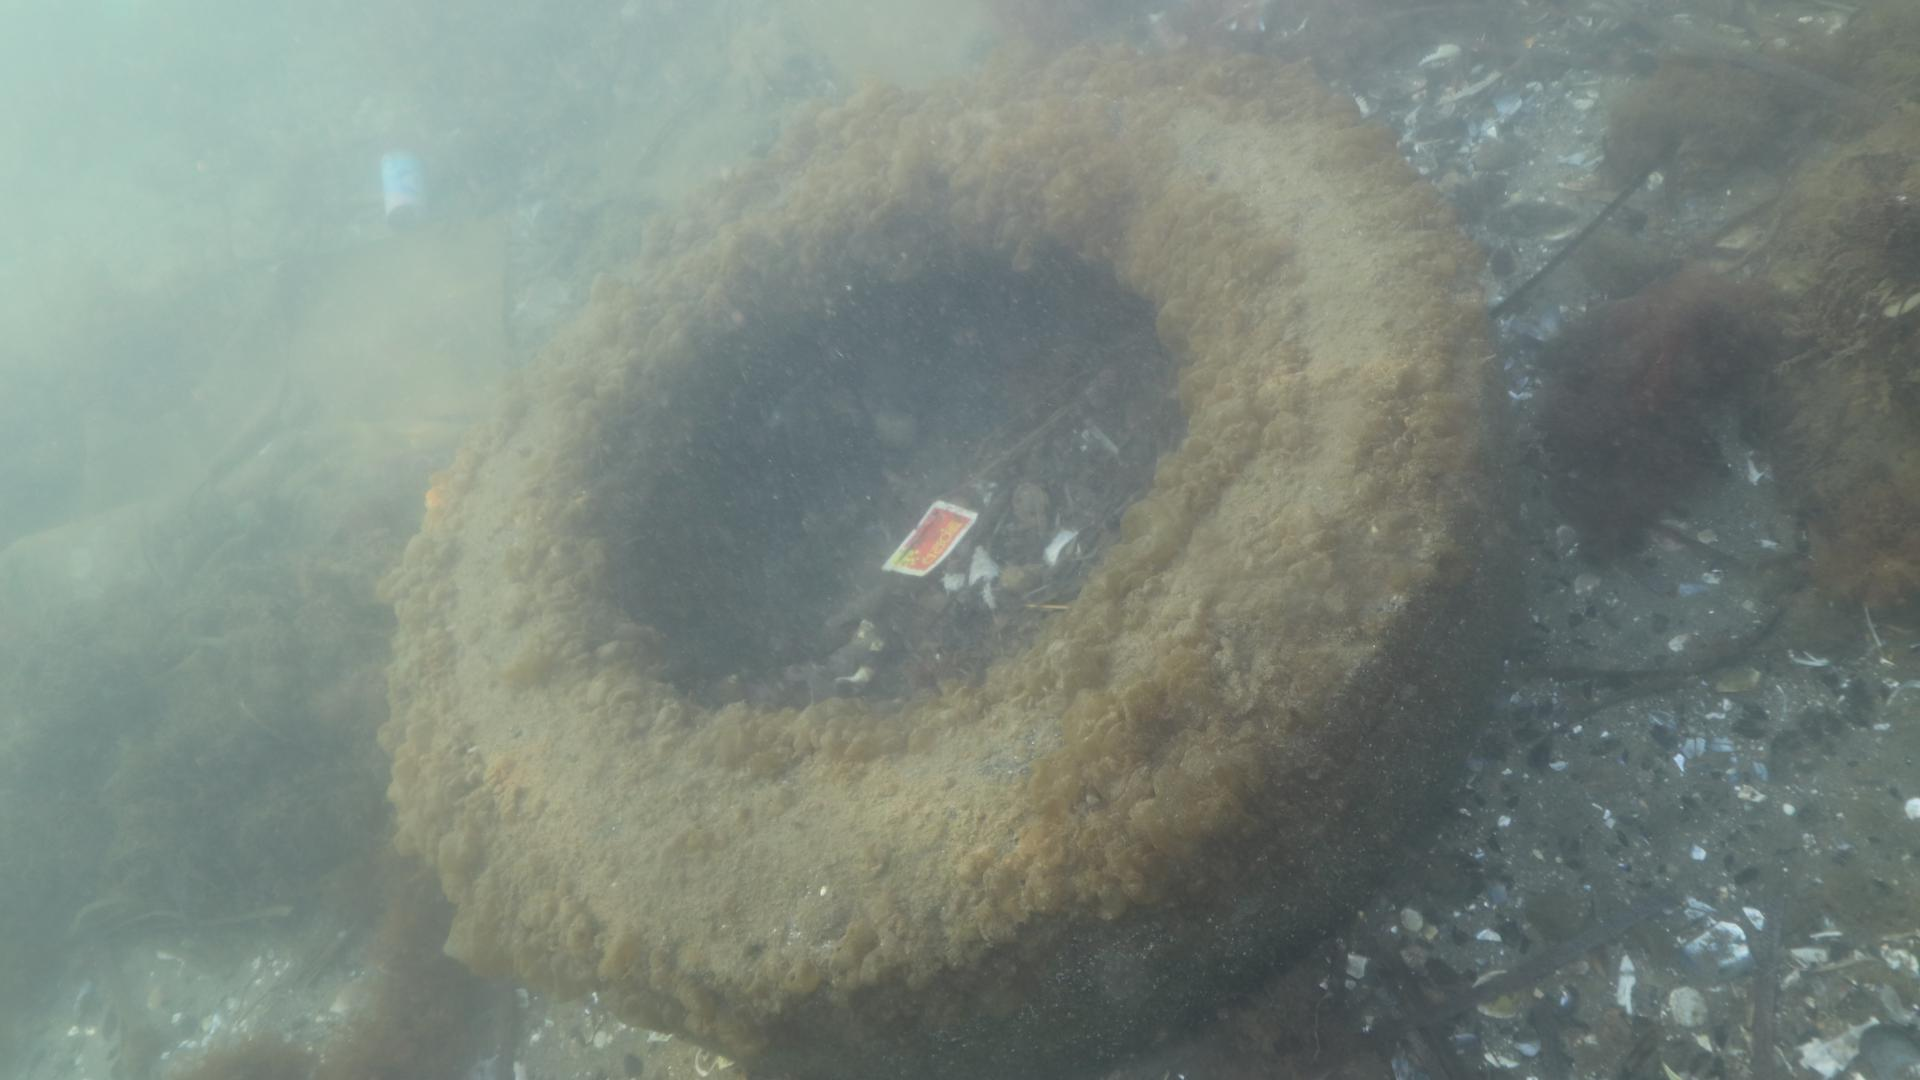tire: (381, 54, 1482, 1058)
